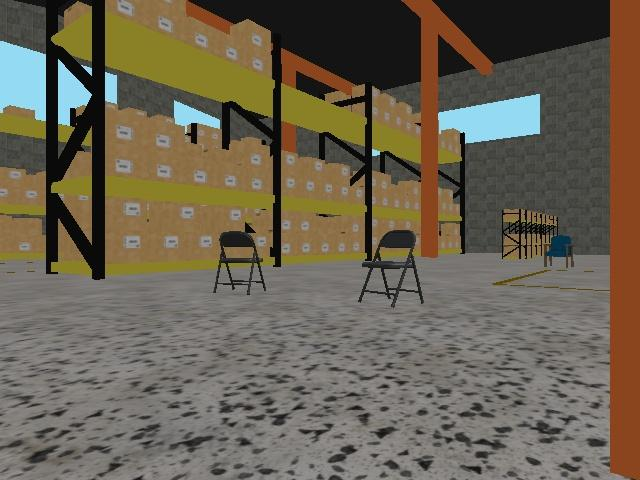chair: (358, 229, 424, 308), (213, 231, 266, 295), (543, 234, 577, 268)
